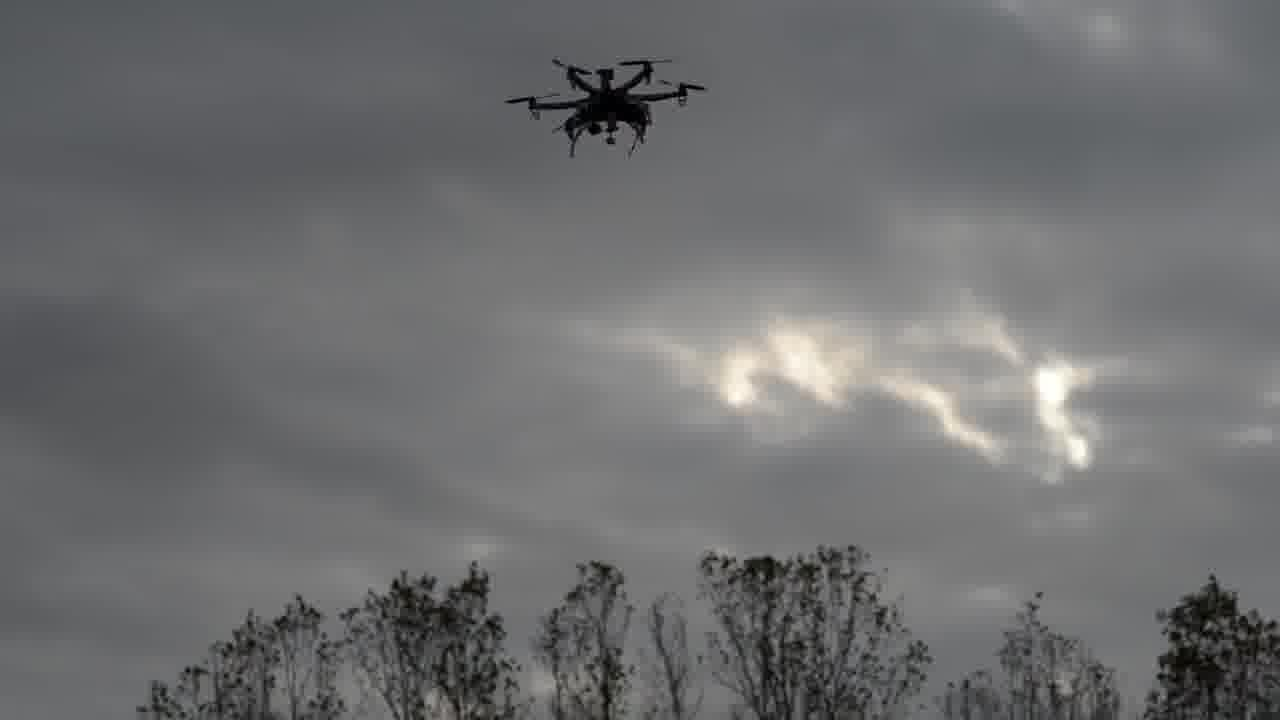drone: (505, 48, 699, 158)
